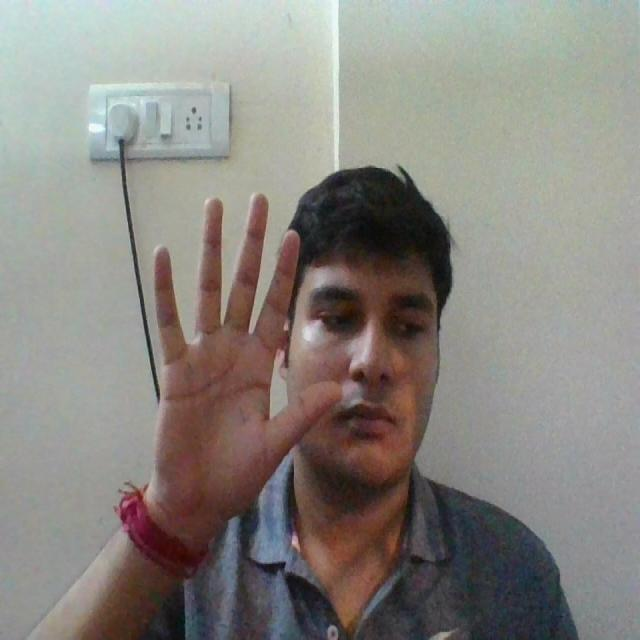Hello: (140, 176, 344, 537)
